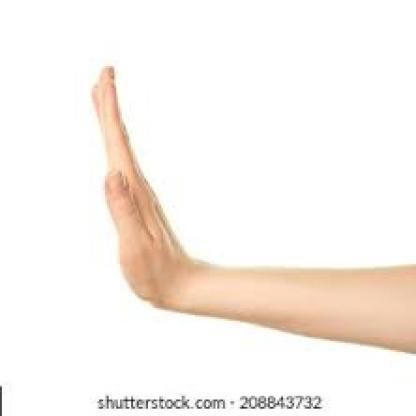stop: (80, 60, 184, 311)
